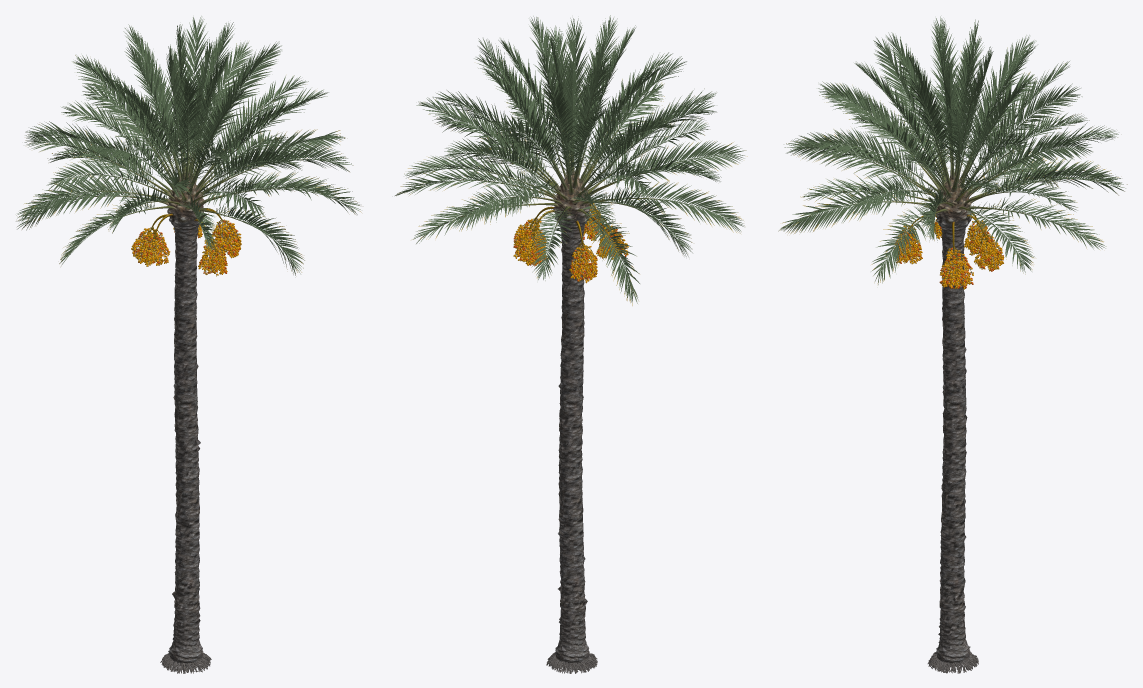
The model's file is Phoenix dactylifera HD_Urban mat 75_LOD0.fbx.
3 renders of one model, left to right at view 1: azimuth 30°, elevation 25°; view 2: azimuth 150°, elevation 25°; view 3: azimuth 270°, elevation 25°, orthographic.
Visible parts, largest first — view 1: Phoenix_dactylifera_HD; view 2: Phoenix_dactylifera_HD; view 3: Phoenix_dactylifera_HD.
Boxes of the visible parts, bbox=[...] form: Phoenix_dactylifera_HD: bbox=[16, 16, 361, 673]; Phoenix_dactylifera_HD: bbox=[395, 15, 747, 673]; Phoenix_dactylifera_HD: bbox=[778, 16, 1127, 673].
Size of the model in its own units: 6.99 by 13.93 by 7.08.
Materials: 10 (10 with a texture image).
